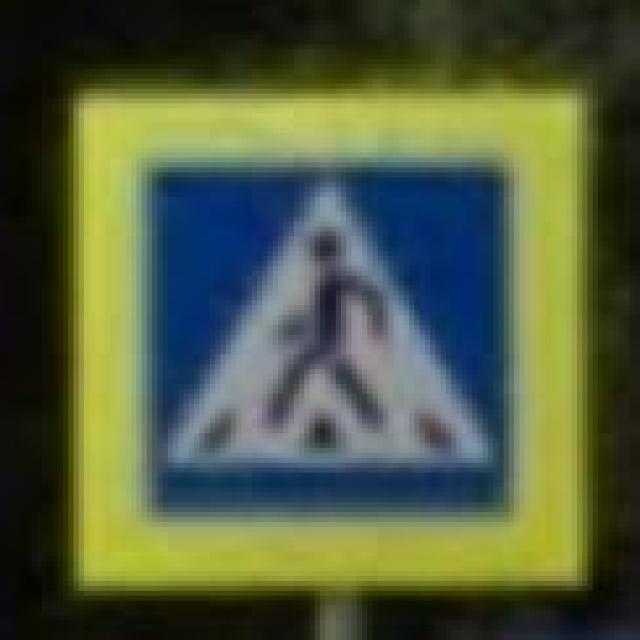crosswalk: (63, 79, 598, 596)
